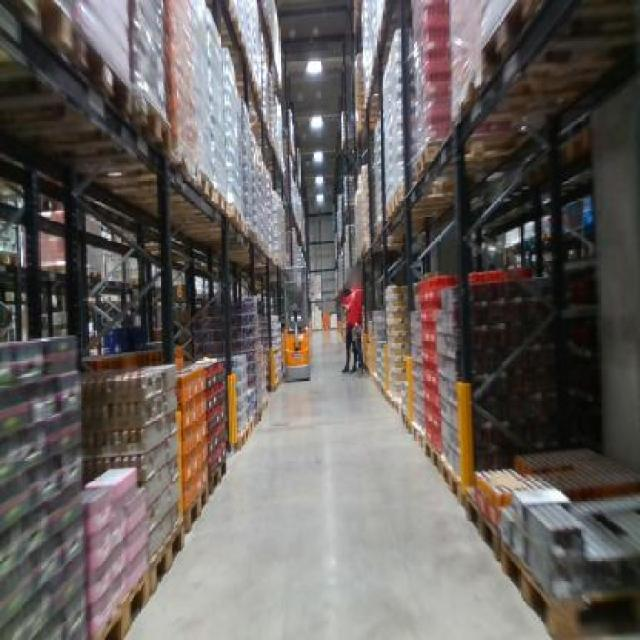pallet: (500, 534, 640, 640), (71, 551, 158, 640), (154, 178, 231, 232), (145, 504, 185, 604), (466, 487, 510, 560), (176, 471, 214, 537)
